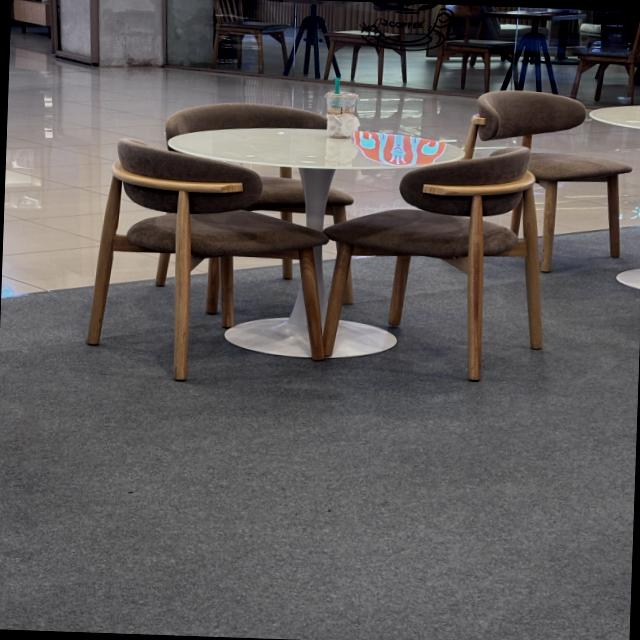Chair: (72, 126, 338, 400), (320, 142, 560, 390), (461, 75, 640, 273)
